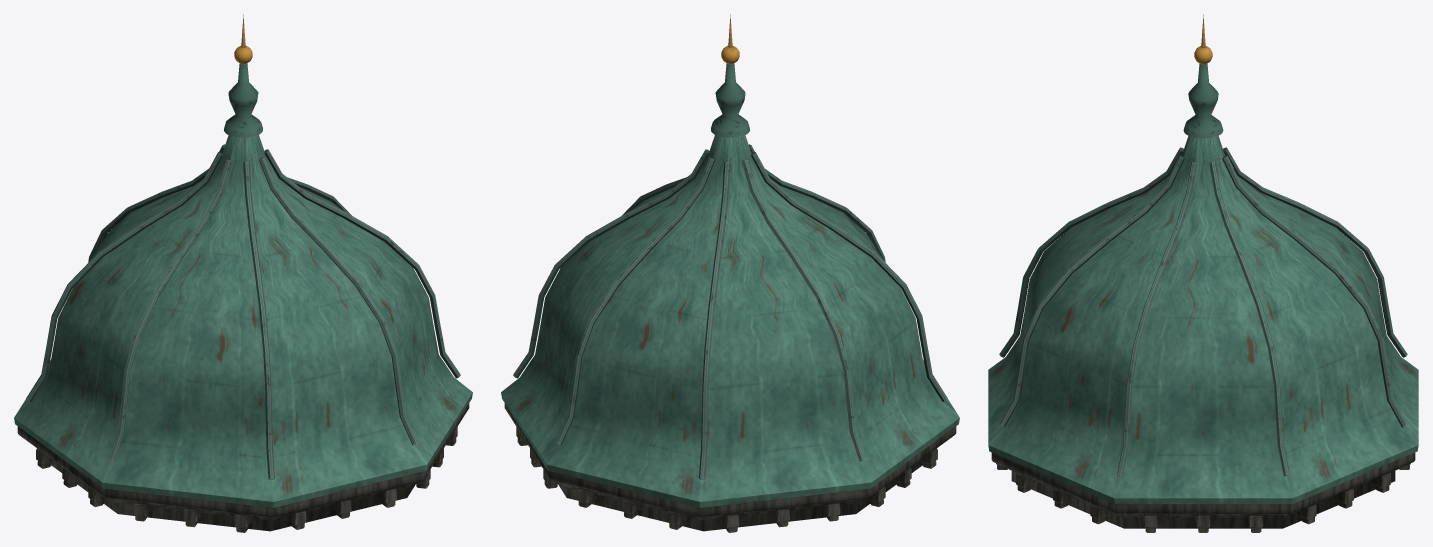
File: BellCastCap.fbx
3 renders of one model, left to right at view 1: azimuth 30°, elevation 25°; view 2: azimuth 150°, elevation 25°; view 3: azimuth 270°, elevation 25°, orthographic.
Parts seen in each view (by area): view 1: BellCastCap_Copper, BellCastCap_Main; view 2: BellCastCap_Copper, BellCastCap_Main; view 3: BellCastCap_Copper, BellCastCap_Main.
Boxes of the visible parts, x1,y1,x2,y2 form: BellCastCap_Copper: (14,135,472,507); BellCastCap_Main: (17,14,469,532); BellCastCap_Copper: (501,135,959,507); BellCastCap_Main: (504,14,956,532); BellCastCap_Copper: (988,136,1418,504); BellCastCap_Main: (991,14,1415,532).
Bounding box in the file's own units: 904 × 1005 × 904.
